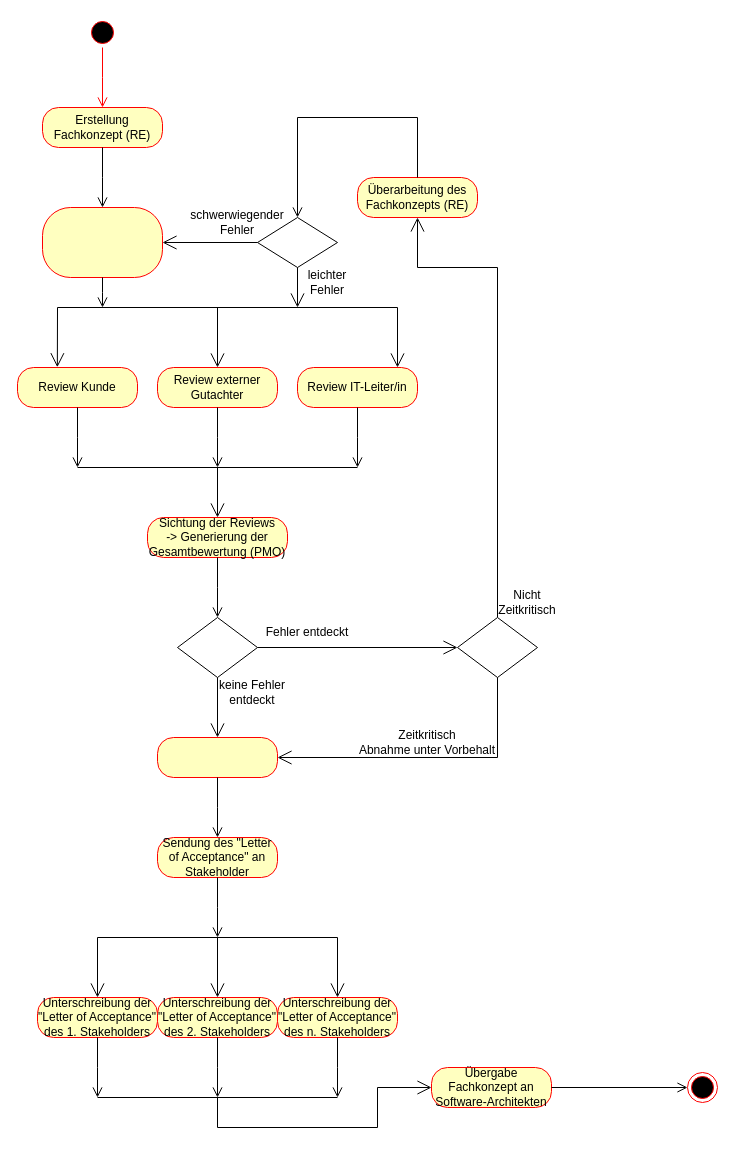
Some shapes in this 735 by 1159 pixel diagram are drawn without their labels. The centre of each missing label's shape, as x and y in pixels:
"Eingereichte Dokumente auf Unternehmensvorgaben überarbeiten (PMO)" goes at (102,242).
"Vorbereitung der Abnahme (PMO)" goes at (217,757).
